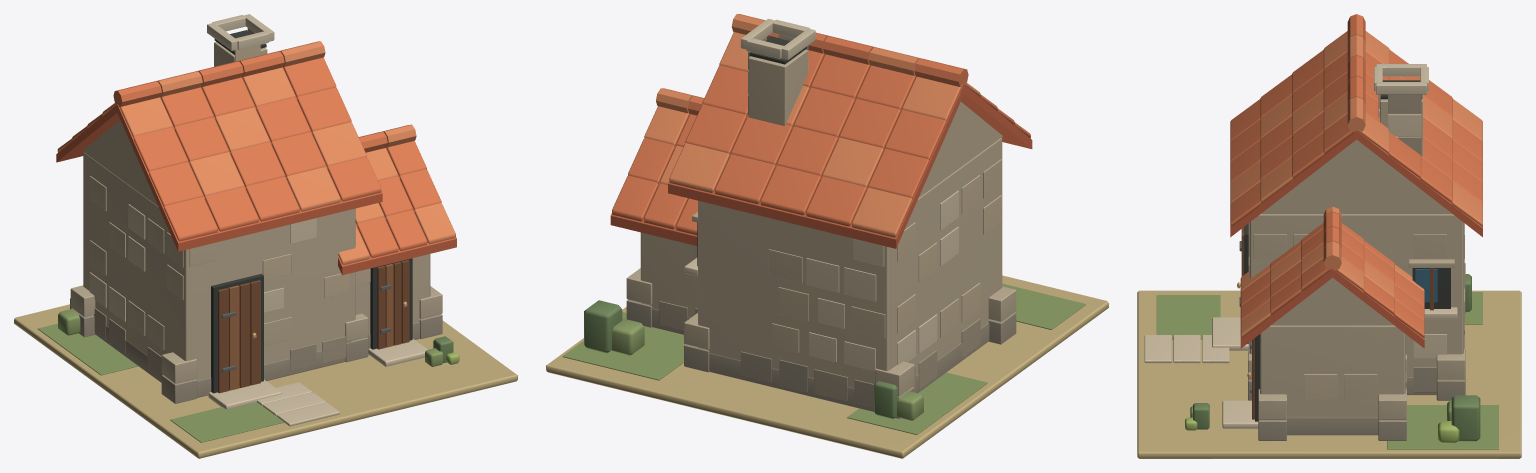
File: house_cottage_annex.glb
The picture shows the model from 3 angles, left to right: view 1: azimuth 30°, elevation 25°; view 2: azimuth 150°, elevation 25°; view 3: azimuth 270°, elevation 25°; orthographic projection. The views are drawn at different scales.
Visible parts, largest first — view 1: house_cottage_annex; view 2: house_cottage_annex; view 3: house_cottage_annex.
Boxes of the visible parts, x1,y1,x2,y2 form: house_cottage_annex: (14,14,517,458); house_cottage_annex: (546,14,1108,458); house_cottage_annex: (1137,14,1521,458).
Bounding box in the file's own units: 2.4 × 2.13 × 2.4.
